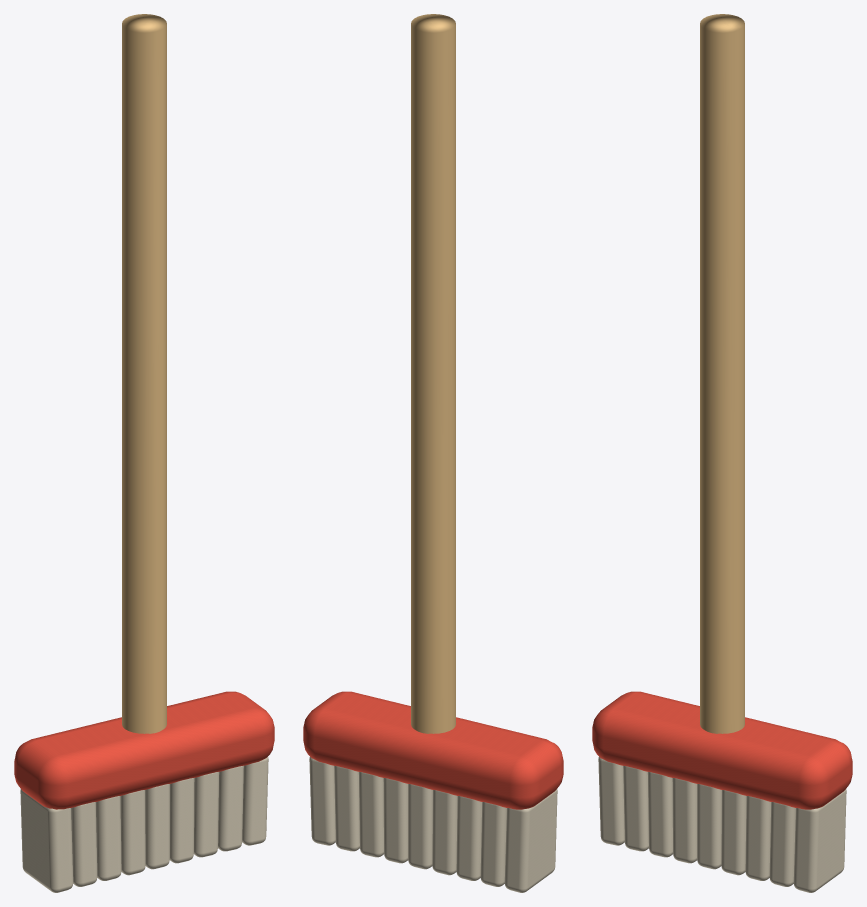
File: BROOM.glb
The picture shows the model from 3 angles, left to right: view 1: azimuth 30°, elevation 25°; view 2: azimuth 150°, elevation 25°; view 3: azimuth 330°, elevation 25°; orthographic projection.
Visible parts, largest first — view 1: BROOM; view 2: BROOM; view 3: BROOM.
Part boxes in pixels (x1,y1,x2,y2): BROOM: (14, 14, 274, 892); BROOM: (303, 14, 563, 892); BROOM: (592, 14, 852, 892).
Bounding box in the file's own units: 0.3 × 1.02 × 0.095.
3 materials, 3 textured.
